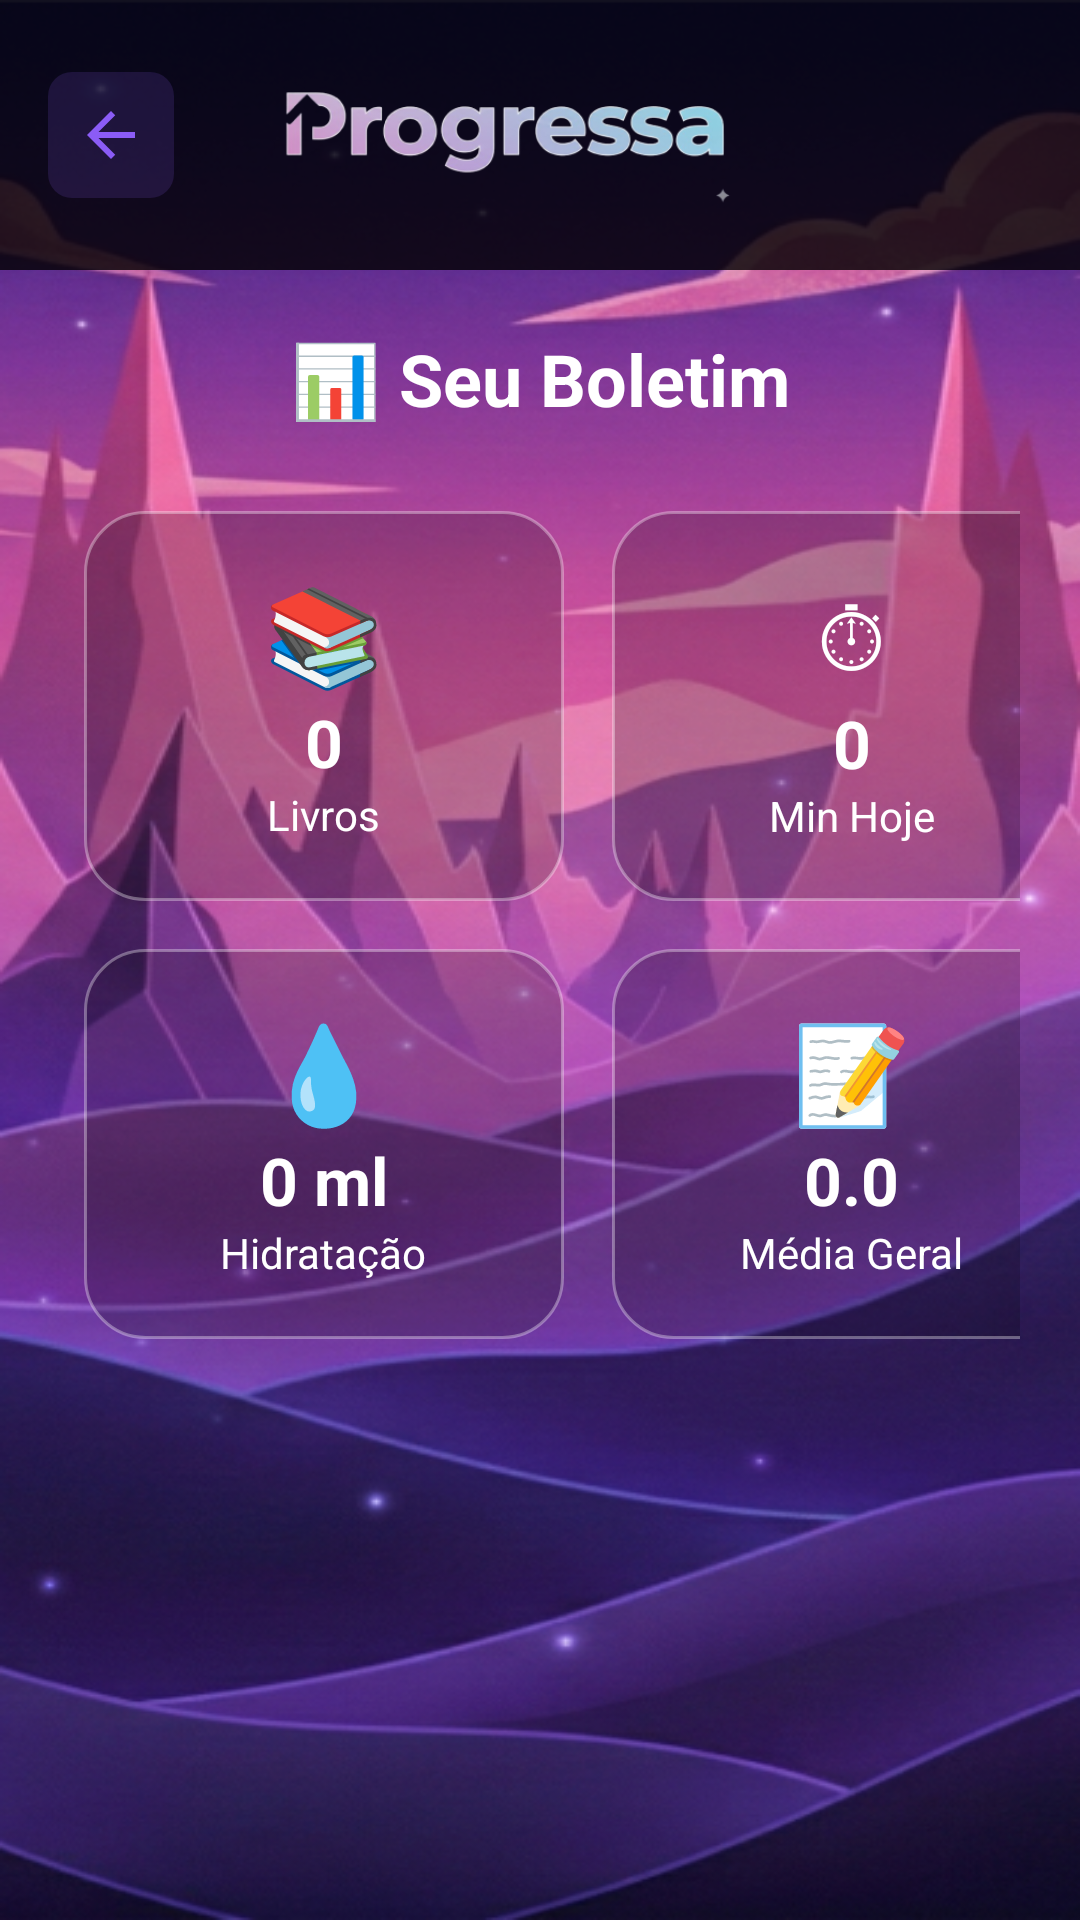

Where to tap for icons on this 1080px x 1920px app screen, as point (x, y):
voltar: point (111, 135)
